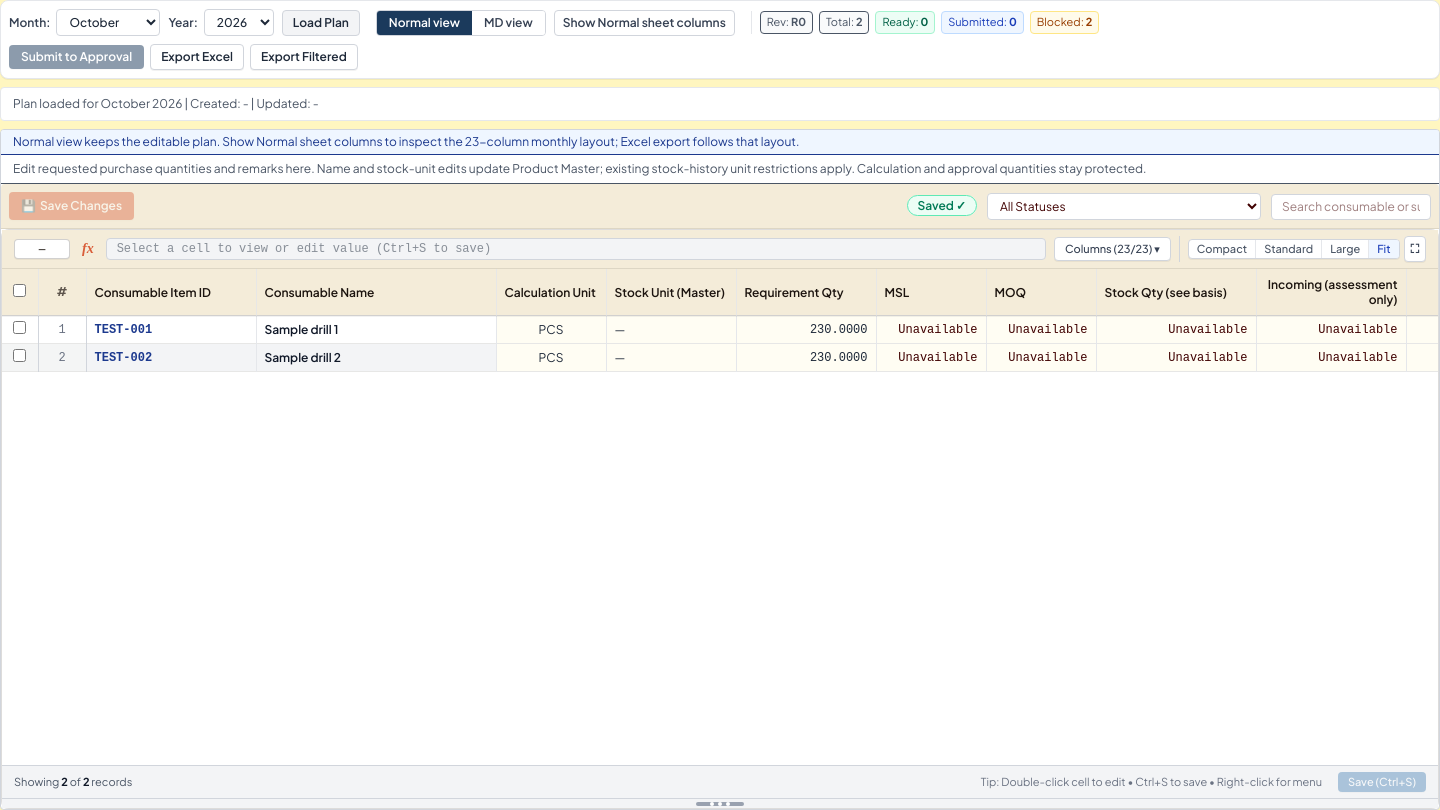
Scenario: authenticated ALL export downloads Excel with the exact row/filter scope
This screenshot has width=1440, height=810.
Expected: the cell "TEST-001" is shown, [86, 316, 256, 344]
Click the button "Export Excel": (197, 57) [150, 44, 244, 70]
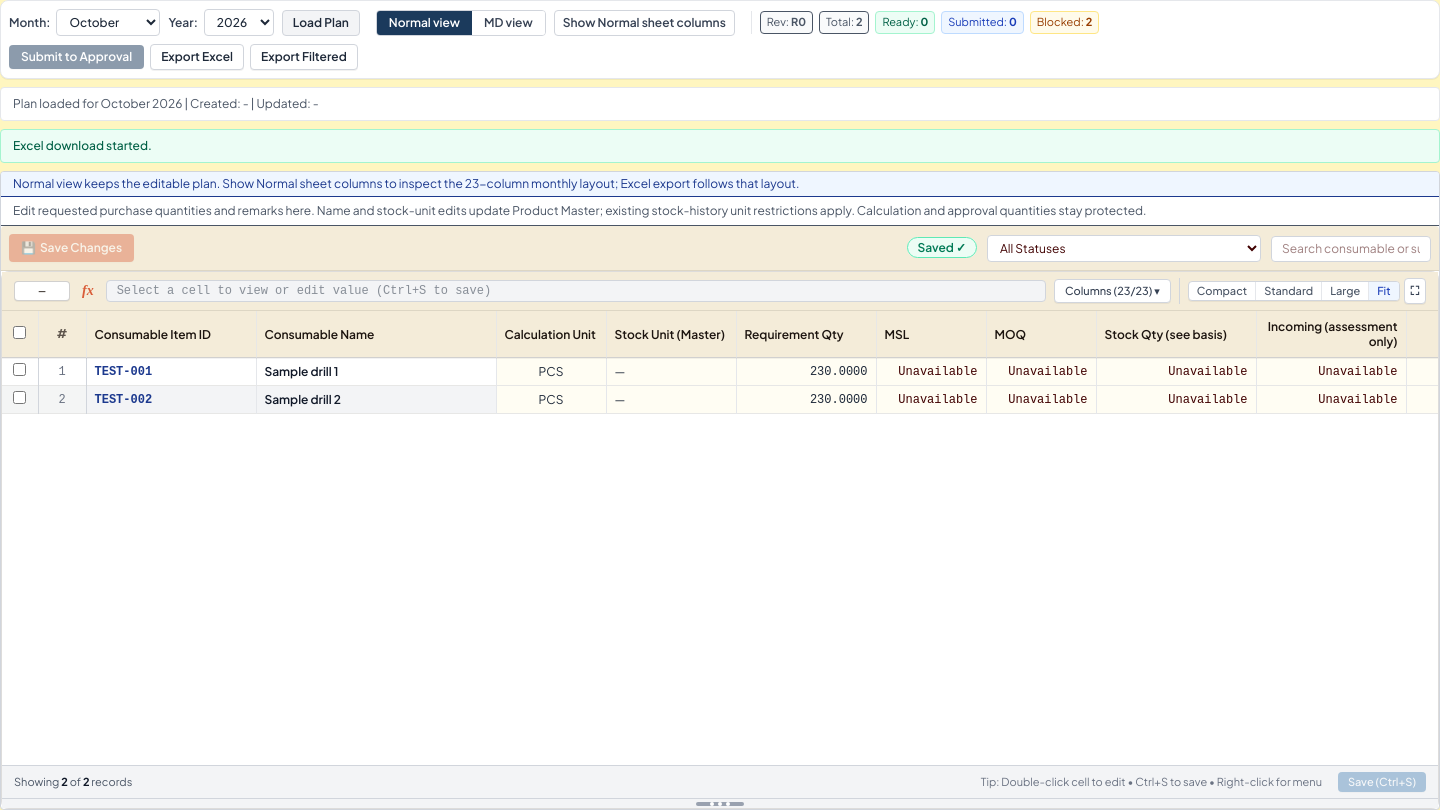
Now the text "Excel download started." is shown, box [0, 129, 1439, 163]
